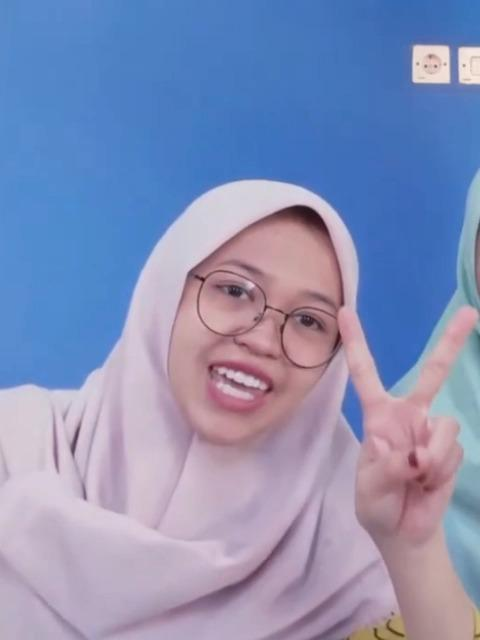V: (332, 298, 480, 544)
